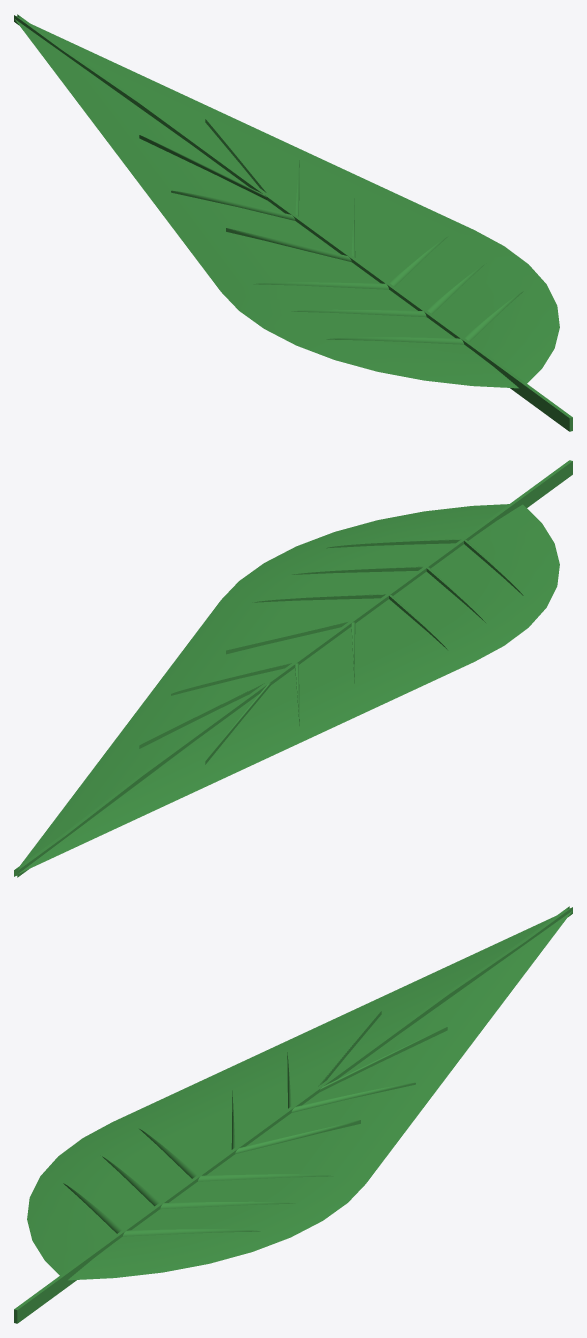
The model's file is Leaf.fbx.
3 renders of one model, top to bottom at view 1: azimuth 30°, elevation 25°; view 2: azimuth 150°, elevation 25°; view 3: azimuth 330°, elevation 25°, orthographic.
Parts seen in each view (by area): view 1: Body11; view 2: Body11; view 3: Body11.
Boxes of the visible parts, bbox=[...] form: Body11: bbox=[14, 14, 572, 431]; Body11: bbox=[14, 460, 572, 877]; Body11: bbox=[14, 906, 572, 1323].
Size of the model in its own units: 81.6 by 4 by 296.
